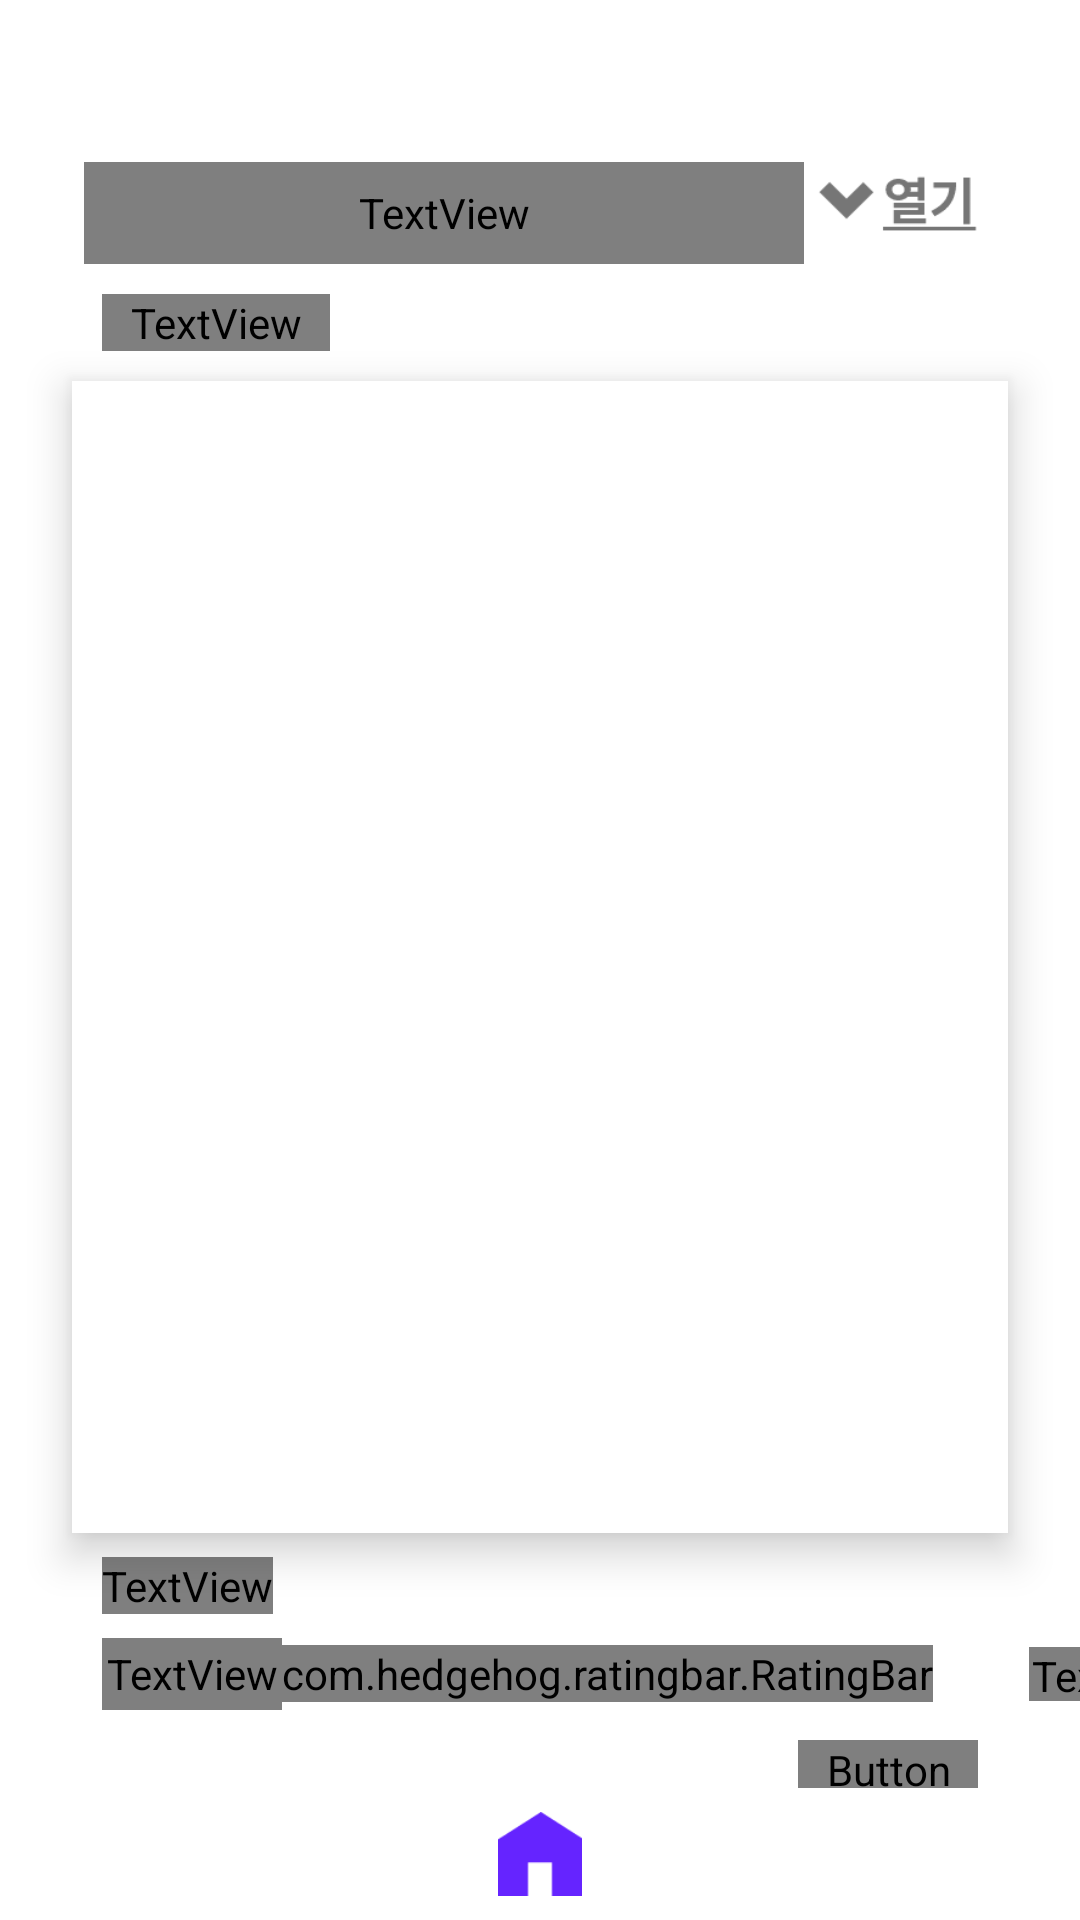

Named icons in this screenshot (1080x1920) and their bounding boxes, (x1, y1, x2, y2):
HOME: (498, 1812, 582, 1896)
